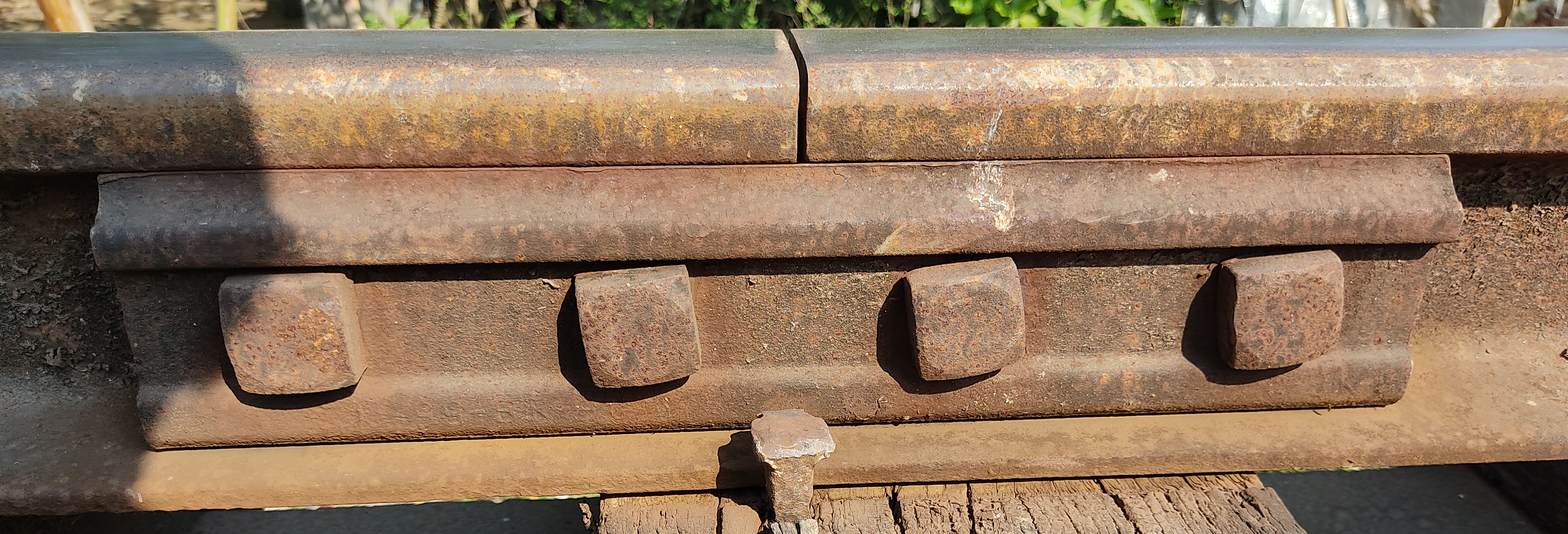duan lie: (768, 9, 837, 172)
